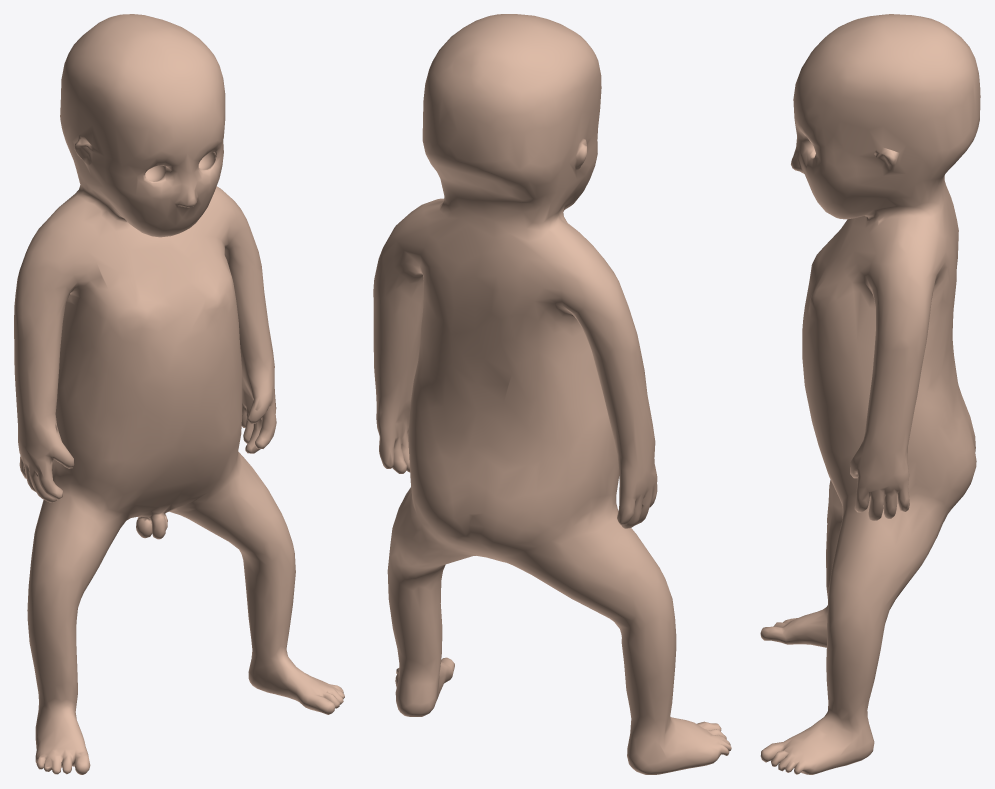
The model's file is pediatric_neonate_male.surface.LOD2.glb.
3 renders of one model, left to right at view 1: azimuth 30°, elevation 25°; view 2: azimuth 150°, elevation 25°; view 3: azimuth 270°, elevation 25°, orthographic. The views are drawn at different scales.
Visible parts, largest first — view 1: PEDIATRIC.NEONATE.MALE.SURFACE.SKIN; view 2: PEDIATRIC.NEONATE.MALE.SURFACE.SKIN; view 3: PEDIATRIC.NEONATE.MALE.SURFACE.SKIN.
Part boxes in pixels (bbox=[...]): PEDIATRIC.NEONATE.MALE.SURFACE.SKIN: bbox=[14, 14, 344, 774]; PEDIATRIC.NEONATE.MALE.SURFACE.SKIN: bbox=[373, 14, 731, 774]; PEDIATRIC.NEONATE.MALE.SURFACE.SKIN: bbox=[760, 14, 980, 774].
Size of the model in its own units: 0.2276 by 0.4813 by 0.1406.
